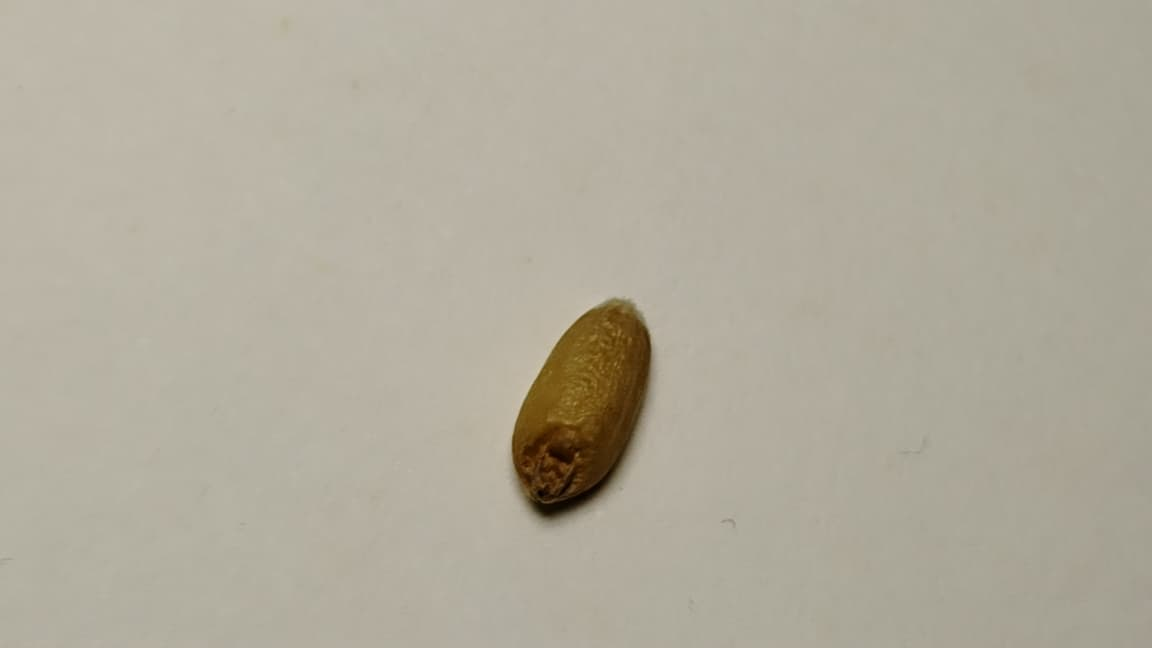healthy: (513, 300, 649, 504)
